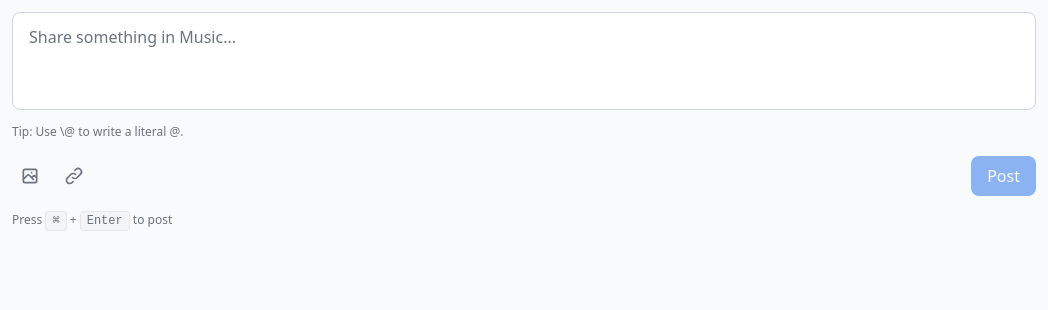
Test case: PostForm › shows error on submit failure
This screenshot has width=1048, height=310.
Type "Hello" into the text box named "Post content".
click(524, 61); type("Hello")  # box x1=12 y1=12 x2=1036 y2=110
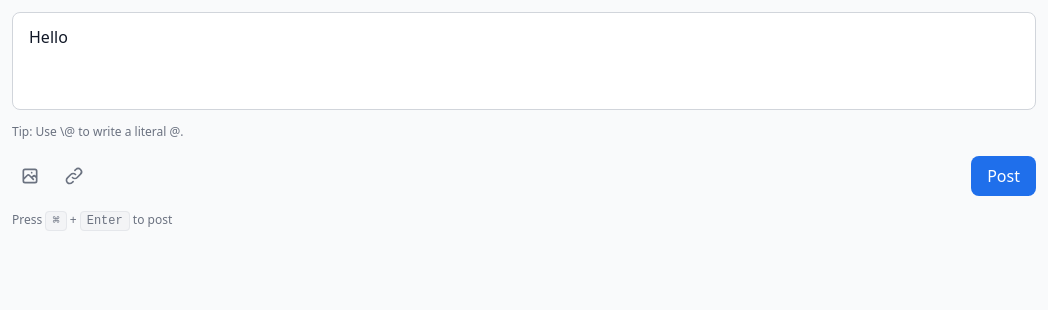
Submit the form
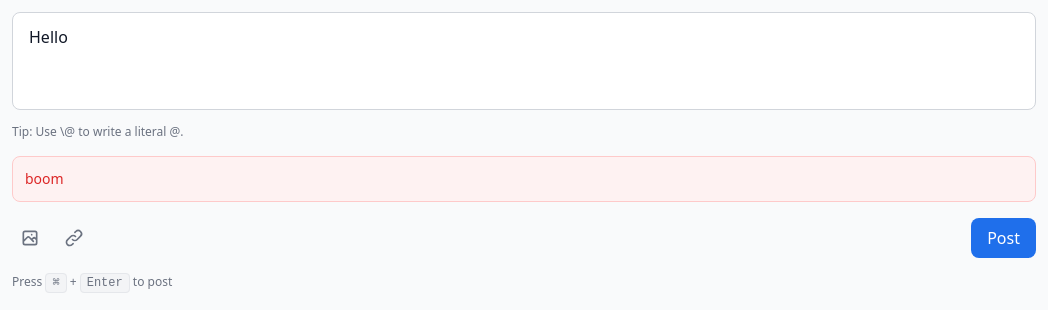
expect the text "boom" is shown: met, box x1=25 y1=169 x2=64 y2=188
